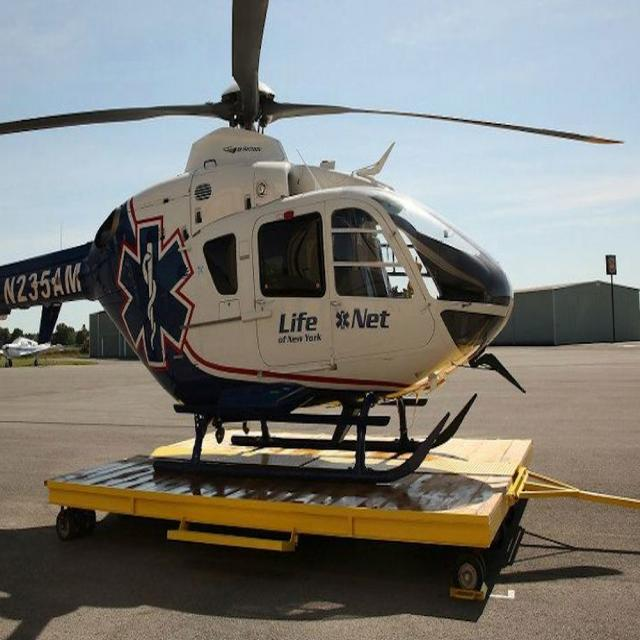helicopter: (1, 1, 627, 482)
